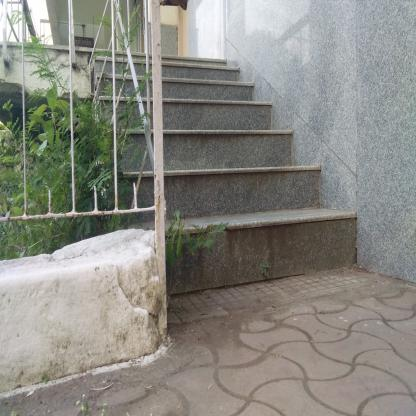stairs: (168, 74, 324, 291)
